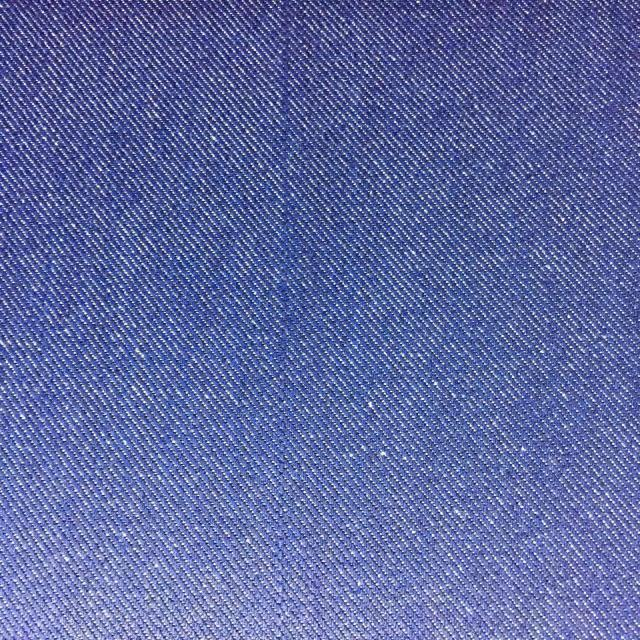Line: (274, 0, 291, 640)
